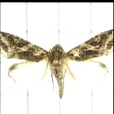Spodoptera litura: (0, 20, 113, 100)
